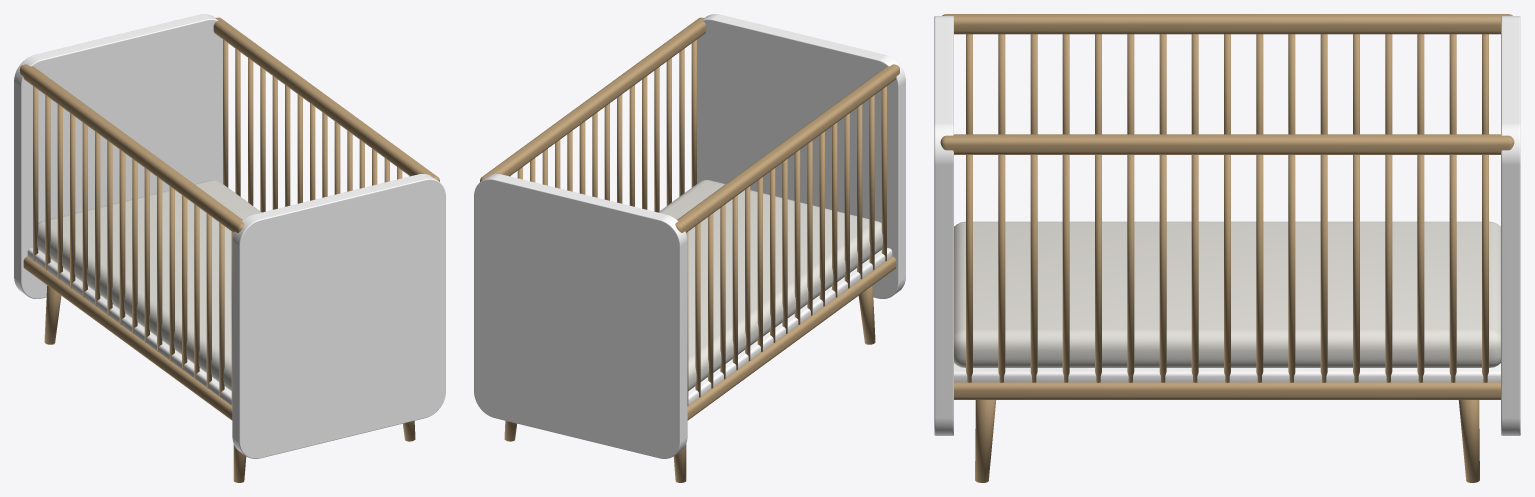
Rendered from crib-rounded.glb.
3 views of the same model, side by side, from view 1: azimuth 30°, elevation 25°; view 2: azimuth 150°, elevation 25°; view 3: azimuth 270°, elevation 25° (orthographic). The views are drawn at different scales.
Parts seen in each view (by area): view 1: Softly rounded painted end, Softly rounded painted end.001, Rounded crib mattress, Solid beech side rail.001, Solid beech side rail.003, Solid beech side rail, Mattress support, Continuous beech spindle.009, Continuous beech spindle.002, Continuous beech spindle.014, Continuous beech spindle.005, Continuous beech spindle.007 (+22 smaller); view 2: Softly rounded painted end.001, Softly rounded painted end, Rounded crib mattress, Solid beech side rail.001, Solid beech side rail.003, Solid beech side rail, Mattress support, Continuous beech spindle.007, Continuous beech spindle.014, Continuous beech spindle.002, Continuous beech spindle.004, Continuous beech spindle.009 (+22 smaller); view 3: Rounded crib mattress, Solid beech side rail.003, Solid beech side rail.001, Solid beech side rail.002, Softly rounded painted end, Softly rounded painted end.001, Mattress support, Continuous beech spindle.018, Continuous beech spindle.019, Continuous beech spindle.022, Continuous beech spindle.028, Continuous beech spindle.031 (+31 smaller).
Part boxes in pixels (x1=…): Softly rounded painted end: x1=232, y1=174, x2=445, y2=458; Softly rounded painted end.001: x1=14, y1=14, x2=222, y2=298; Rounded crib mattress: x1=37, y1=180, x2=261, y2=390; Solid beech side rail.001: x1=20, y1=64, x2=244, y2=232; Solid beech side rail.003: x1=213, y1=17, x2=439, y2=181; Solid beech side rail: x1=23, y1=256, x2=232, y2=420; Mattress support: x1=27, y1=248, x2=231, y2=405; Continuous beech spindle.009: x1=119, y1=149, x2=125, y2=324; Continuous beech spindle.002: x1=206, y1=213, x2=211, y2=388; Continuous beech spindle.014: x1=57, y1=104, x2=62, y2=279; Continuous beech spindle.005: x1=169, y1=186, x2=174, y2=361; Continuous beech spindle.007: x1=144, y1=168, x2=149, y2=342; Softly rounded painted end.001: x1=474, y1=174, x2=687, y2=458; Softly rounded painted end: x1=697, y1=14, x2=905, y2=298; Rounded crib mattress: x1=658, y1=180, x2=882, y2=390; Solid beech side rail.001: x1=675, y1=64, x2=899, y2=232; Solid beech side rail.003: x1=480, y1=17, x2=706, y2=181; Solid beech side rail: x1=687, y1=256, x2=896, y2=420; Mattress support: x1=688, y1=248, x2=892, y2=405; Continuous beech spindle.007: x1=794, y1=149, x2=800, y2=324; Continuous beech spindle.014: x1=708, y1=213, x2=713, y2=388; Continuous beech spindle.002: x1=857, y1=104, x2=862, y2=279; Continuous beech spindle.004: x1=832, y1=122, x2=837, y2=297; Continuous beech spindle.009: x1=770, y1=168, x2=775, y2=342; Rounded crib mattress: x1=954, y1=221, x2=1500, y2=367; Solid beech side rail.003: x1=940, y1=134, x2=1514, y2=154; Solid beech side rail.001: x1=942, y1=14, x2=1512, y2=34; Solid beech side rail.002: x1=954, y1=382, x2=1500, y2=399; Softly rounded painted end: x1=934, y1=16, x2=953, y2=435; Softly rounded painted end.001: x1=1501, y1=16, x2=1520, y2=435; Mattress support: x1=954, y1=363, x2=1500, y2=382; Continuous beech spindle.018: x1=998, y1=155, x2=1005, y2=382; Continuous beech spindle.019: x1=1030, y1=155, x2=1037, y2=382; Continuous beech spindle.022: x1=1127, y1=155, x2=1134, y2=382; Continuous beech spindle.028: x1=1320, y1=155, x2=1327, y2=382; Continuous beech spindle.031: x1=1417, y1=155, x2=1424, y2=382.
Bounding box in the file's own units: 0.711 × 0.9013 × 1.35.
